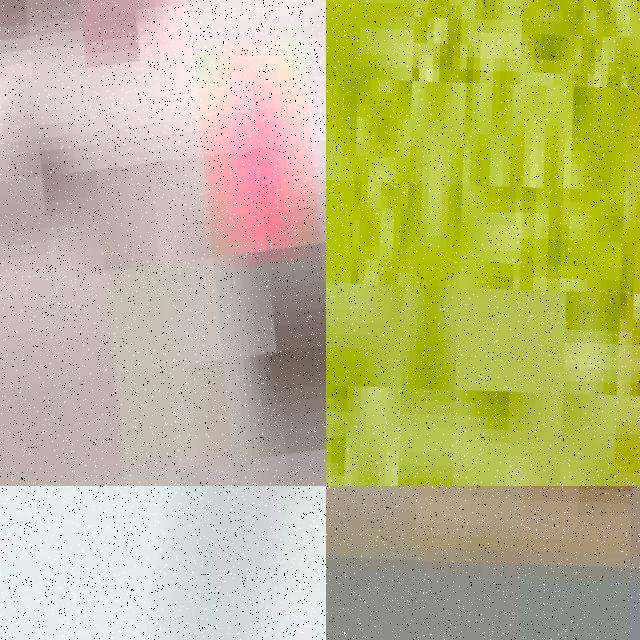drone: (0, 0, 326, 486), (0, 486, 326, 640)
